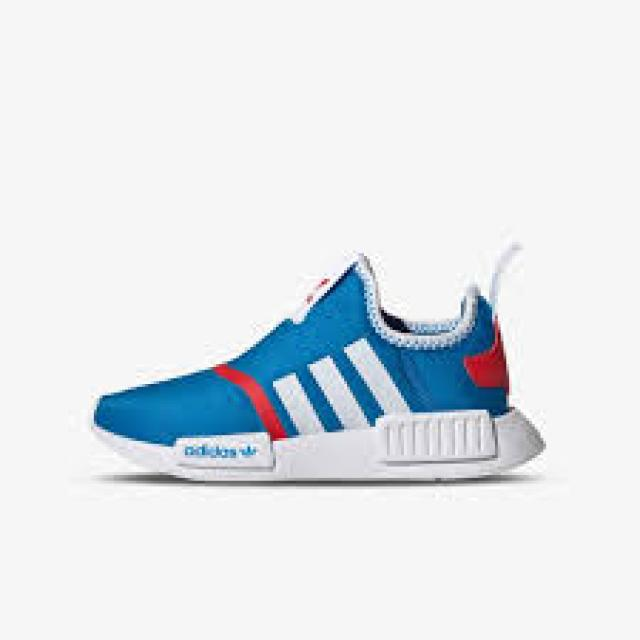shoe: (74, 240, 568, 482)
